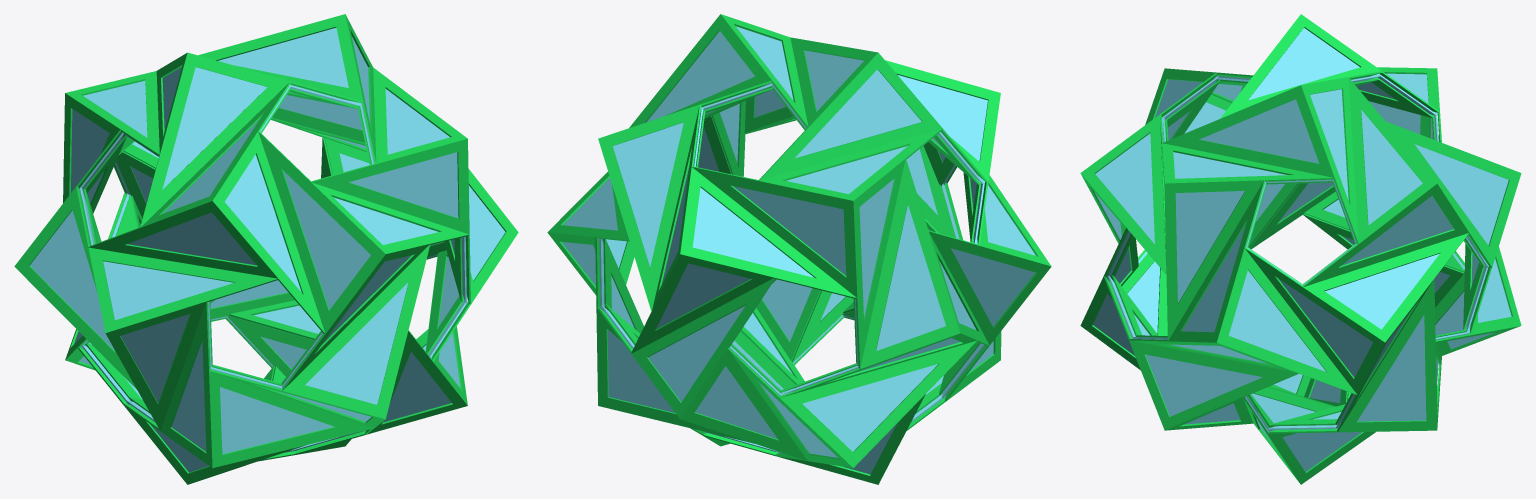
File: Dodecahedron4.glb
3 views of the same model, side by side, from view 1: azimuth 30°, elevation 25°; view 2: azimuth 150°, elevation 25°; view 3: azimuth 270°, elevation 25° (orthographic). The views are drawn at different scales.
Visible parts, largest first — view 1: root.002, root.001, root; view 2: root.002, root.001, root; view 3: root.001, root.002, root.
Boxes of the visible parts, bbox=[...] form: root.002: bbox=[14, 14, 518, 484]; root.001: bbox=[30, 28, 505, 472]; root: bbox=[83, 88, 464, 413]; root.002: bbox=[547, 14, 1051, 484]; root.001: bbox=[562, 26, 1035, 474]; root: bbox=[602, 86, 981, 413]; root.001: bbox=[1093, 28, 1511, 471]; root.002: bbox=[1080, 14, 1521, 484]; root: bbox=[1110, 77, 1484, 428].
Size of the model in its own units: 2.62 by 2.62 by 2.62.
